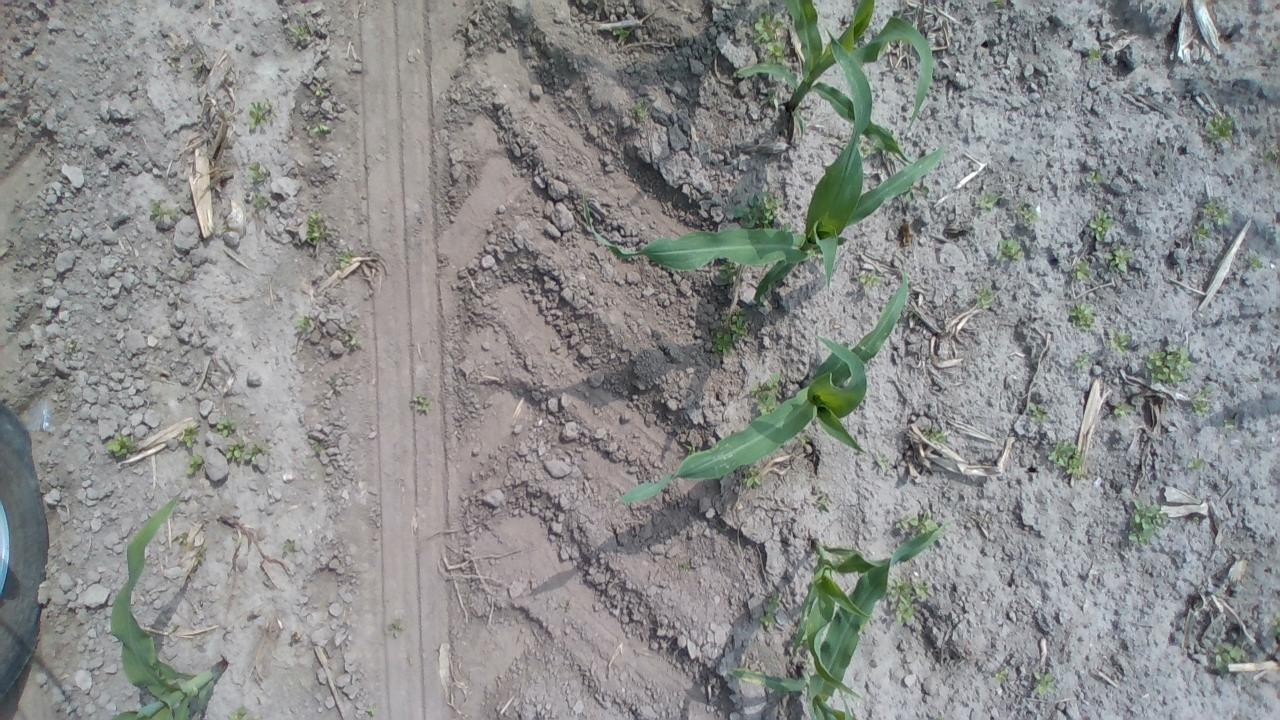Maize: (582, 29, 942, 304), (619, 276, 910, 507), (719, 0, 934, 174), (790, 518, 950, 700), (108, 491, 226, 720), (730, 558, 891, 720)
Weeds: (1144, 344, 1196, 388), (709, 305, 753, 356), (1127, 498, 1169, 546), (888, 576, 928, 626), (751, 10, 786, 66), (728, 191, 779, 228), (1046, 438, 1090, 480), (748, 370, 783, 413), (894, 509, 943, 536), (305, 208, 336, 246), (1214, 640, 1248, 674), (243, 96, 276, 128), (1087, 207, 1114, 244), (756, 589, 784, 624), (104, 431, 137, 460), (1204, 114, 1234, 144), (995, 238, 1026, 266), (224, 440, 259, 464), (1190, 382, 1214, 417), (1202, 200, 1233, 226), (243, 160, 271, 187), (1107, 247, 1136, 273), (1070, 301, 1096, 329), (1032, 669, 1058, 696), (148, 197, 176, 222), (1070, 257, 1096, 283), (1104, 330, 1131, 354), (918, 424, 948, 445), (1026, 401, 1052, 424), (227, 704, 264, 720), (712, 264, 740, 284), (740, 463, 762, 488), (213, 417, 239, 438), (177, 423, 198, 448), (1016, 200, 1037, 224), (975, 190, 1000, 210), (896, 186, 918, 206), (290, 314, 314, 332), (414, 393, 434, 414), (856, 272, 882, 288), (1190, 222, 1210, 242), (859, 140, 879, 160), (976, 287, 994, 309), (304, 121, 330, 136), (184, 455, 204, 474), (1111, 401, 1132, 419), (334, 248, 352, 268), (288, 23, 306, 42), (1264, 142, 1280, 162), (608, 27, 630, 41), (634, 96, 646, 121), (344, 334, 365, 348), (993, 666, 1011, 682), (1248, 254, 1266, 270), (1086, 47, 1102, 64), (792, 430, 811, 444), (1074, 352, 1090, 368), (1088, 168, 1104, 184), (312, 79, 326, 97), (1186, 456, 1202, 470), (386, 622, 399, 639), (816, 496, 831, 510), (255, 194, 269, 209), (1273, 608, 1280, 638), (877, 456, 890, 472), (767, 88, 779, 105), (881, 150, 898, 162), (166, 623, 182, 634), (903, 309, 918, 320), (989, 0, 1007, 9), (1222, 417, 1234, 430), (176, 532, 188, 544), (191, 556, 202, 567), (66, 338, 74, 353), (280, 542, 290, 554), (804, 658, 816, 668), (780, 222, 793, 231), (760, 291, 770, 302), (311, 442, 322, 452), (366, 705, 376, 716), (686, 446, 696, 456), (1192, 516, 1200, 528), (679, 562, 688, 572), (200, 543, 208, 553), (920, 187, 929, 195), (191, 62, 197, 72)
